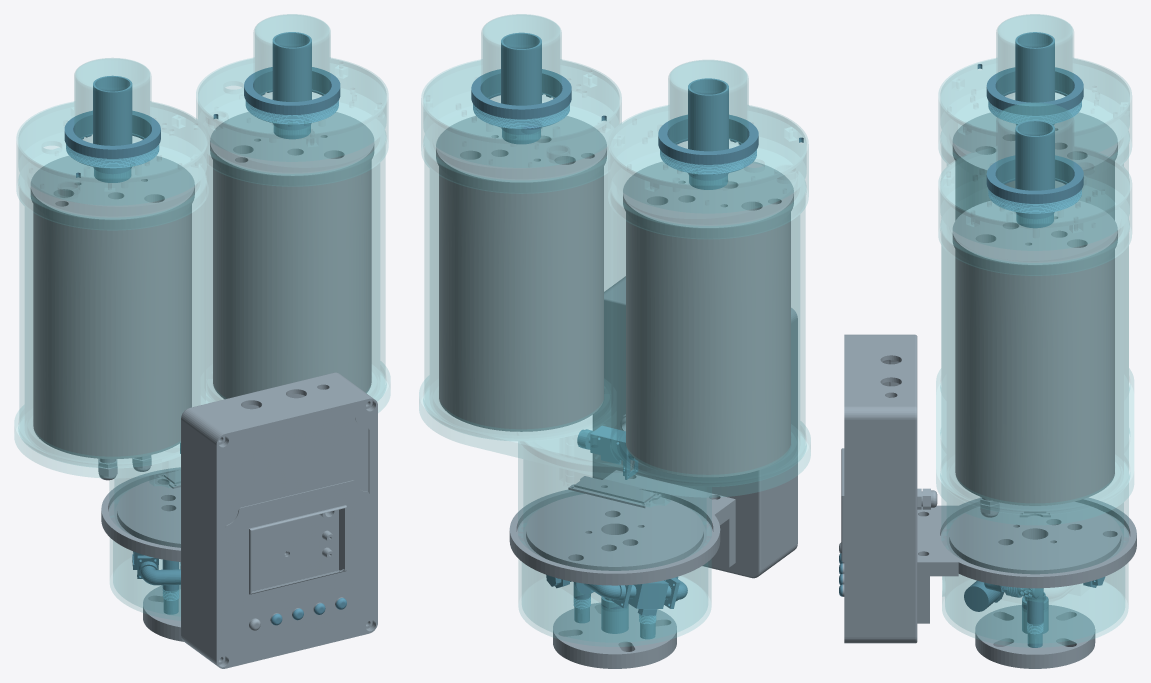
Rendered from yldq-5-double-pipe.glb.
3 views of the same model, side by side, from view 1: azimuth 30°, elevation 25°; view 2: azimuth 150°, elevation 25°; view 3: azimuth 270°, elevation 25° (orthographic). The views are drawn at different scales.
Parts seen in each view (by area): view 1: double_component_005_structure, double_component_002_outer_shell, double_component_073_outer_shell, double_component_033_support, double_component_071_support, double_component_019_outer_shell, double_component_060_outer_shell, double_component_072_support, double_component_034_support, double_component_061_outer_shell, double_component_020_outer_shell, double_component_074_outer_shell (+12 smaller); view 2: double_component_002_outer_shell, double_component_073_outer_shell, double_component_071_support, double_component_033_support, double_component_004_structure, double_component_003_outer_shell, double_component_019_outer_shell, double_component_060_outer_shell, double_component_001_outer_shell, double_component_005_structure, double_component_018_outer_shell, double_component_072_support (+15 smaller); view 3: double_component_073_outer_shell, double_component_071_support, double_component_005_structure, double_component_004_structure, double_component_060_outer_shell, double_component_003_outer_shell, double_component_018_outer_shell, double_component_019_outer_shell, double_component_072_support, double_component_061_outer_shell, double_component_001_outer_shell, double_component_022_outer_shell (+13 smaller).
Part boxes in pixels (x1,y1,x2,y2): double_component_005_structure: (181, 372, 377, 668); double_component_002_outer_shell: (19, 175, 205, 467); double_component_073_outer_shell: (201, 131, 385, 402); double_component_033_support: (33, 204, 191, 459); double_component_071_support: (213, 160, 371, 398); double_component_019_outer_shell: (16, 101, 208, 230); double_component_060_outer_shell: (196, 58, 388, 186); double_component_072_support: (210, 112, 374, 185); double_component_034_support: (30, 155, 194, 229); double_component_061_outer_shell: (198, 59, 386, 138); double_component_020_outer_shell: (18, 102, 206, 182); double_component_074_outer_shell: (74, 58, 151, 145); double_component_002_outer_shell: (611, 182, 805, 485); double_component_073_outer_shell: (424, 136, 615, 440); double_component_071_support: (439, 166, 603, 431); double_component_033_support: (626, 212, 790, 477); double_component_004_structure: (509, 470, 735, 585); double_component_003_outer_shell: (518, 418, 711, 570); double_component_019_outer_shell: (608, 105, 808, 238); double_component_060_outer_shell: (421, 59, 621, 193); double_component_001_outer_shell: (419, 376, 810, 506); double_component_005_structure: (592, 276, 797, 578); double_component_018_outer_shell: (518, 559, 711, 646); double_component_072_support: (436, 116, 606, 192); double_component_073_outer_shell: (941, 220, 1128, 513); double_component_071_support: (955, 249, 1114, 505); double_component_005_structure: (839, 334, 917, 643); double_component_004_structure: (917, 497, 1136, 623); double_component_060_outer_shell: (938, 146, 1131, 275); double_component_003_outer_shell: (941, 484, 1128, 573); double_component_018_outer_shell: (942, 563, 1128, 647); double_component_019_outer_shell: (938, 58, 1131, 170); double_component_072_support: (952, 200, 1117, 274); double_component_061_outer_shell: (940, 147, 1129, 227); double_component_001_outer_shell: (936, 368, 1133, 524); double_component_022_outer_shell: (996, 102, 1073, 190).
Size of the model in its own units: 3.12 by 4.83 by 2.28.
